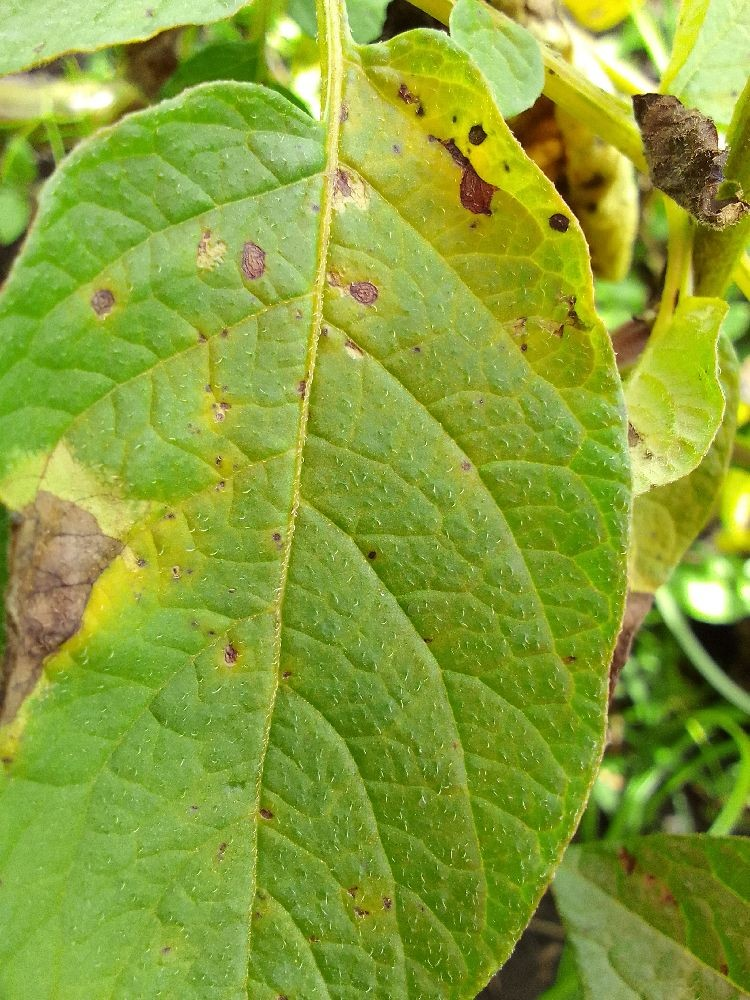late_blight: (351, 0, 749, 390), (557, 752, 750, 1000), (0, 461, 156, 755), (461, 871, 584, 1000)
